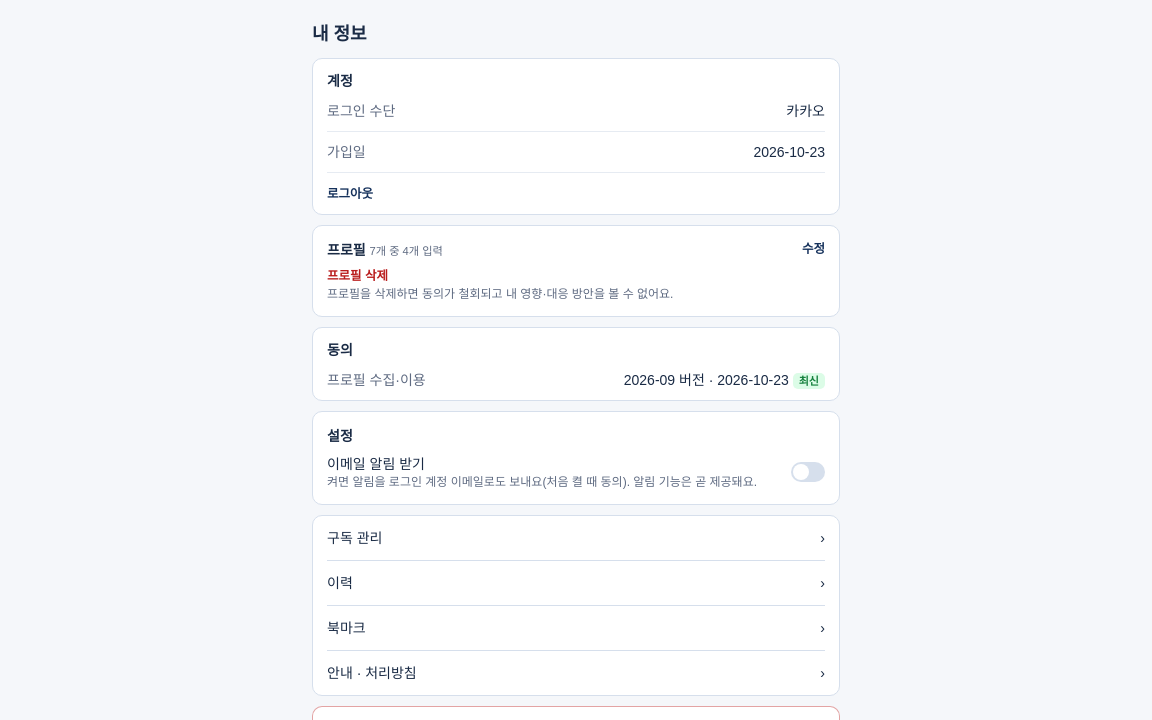
Scenario: MyScreen › 이메일 동의 — 취소하고 다시 열면 체크가 풀려 있다
Click the switch named "이메일 알림 받기".
click(808, 472)  # box [791,462,825,482]
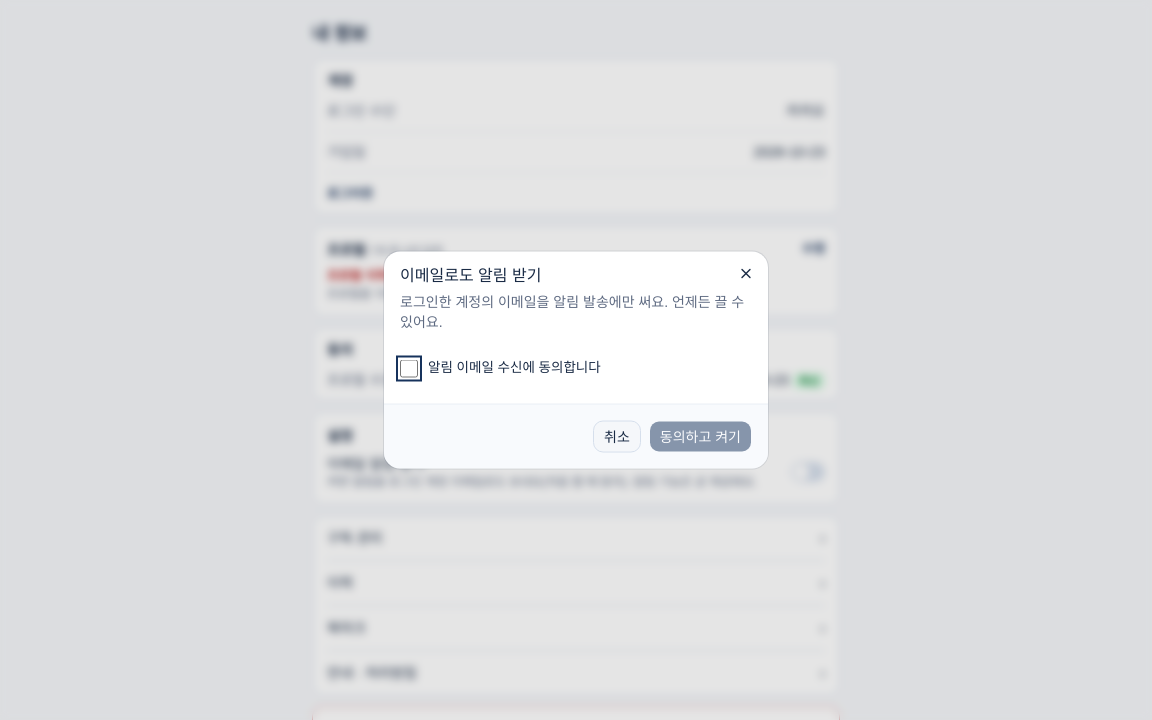
Click the checkbox labelled "알림 이메일 수신에 동의합니다".
click(409, 368)  # box [400,360,418,378]
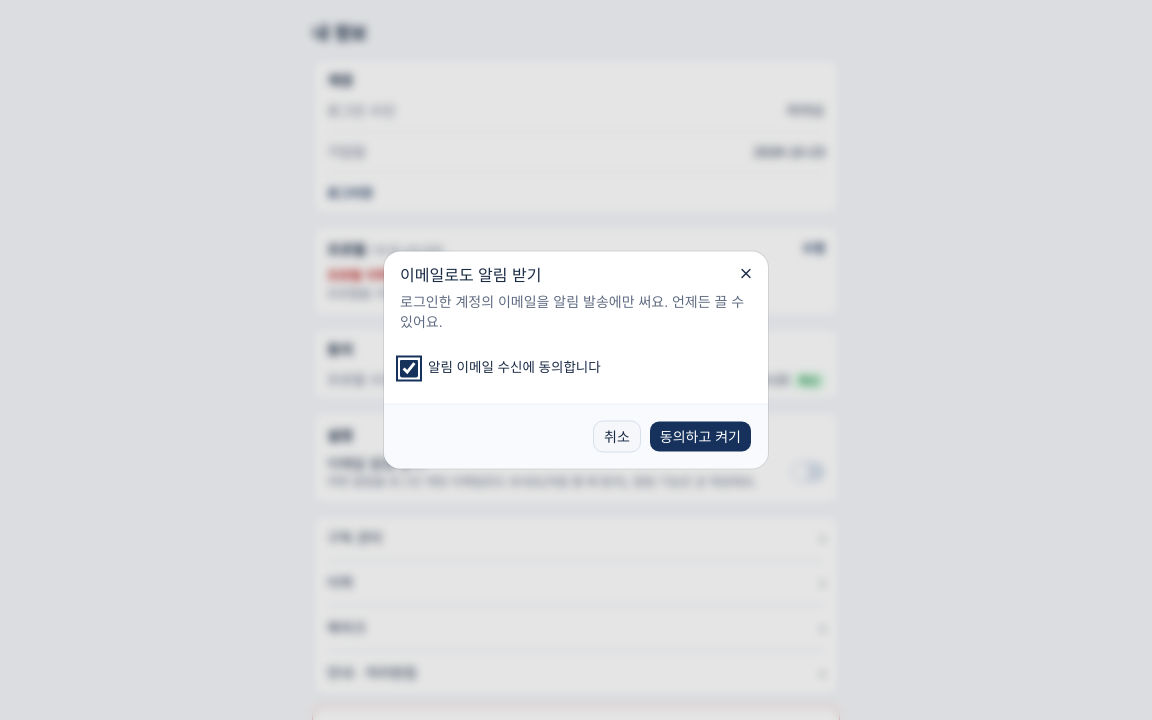
Click the button "취소".
click(617, 436)  # box [593,420,641,452]
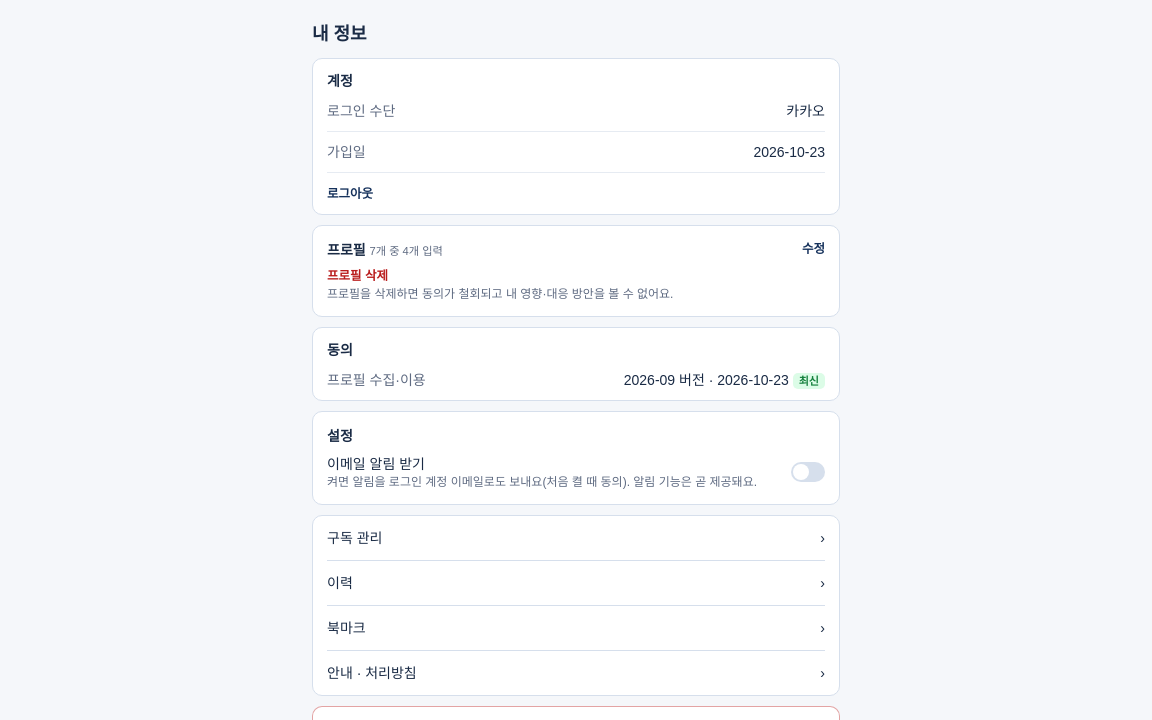
Click the switch named "이메일 알림 받기".
click(808, 472)  # box [791,462,825,482]
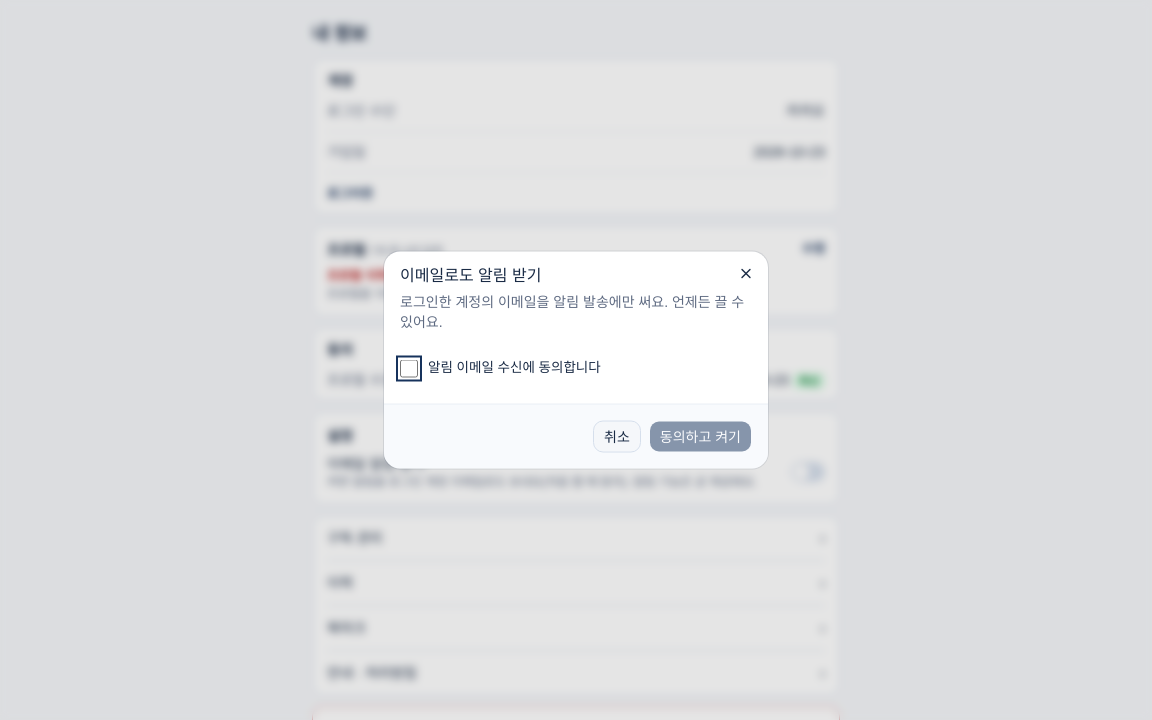
Check: the checkbox labelled "알림 이메일 수신에 동의합니다" is not checked, box [400,360,418,378]
